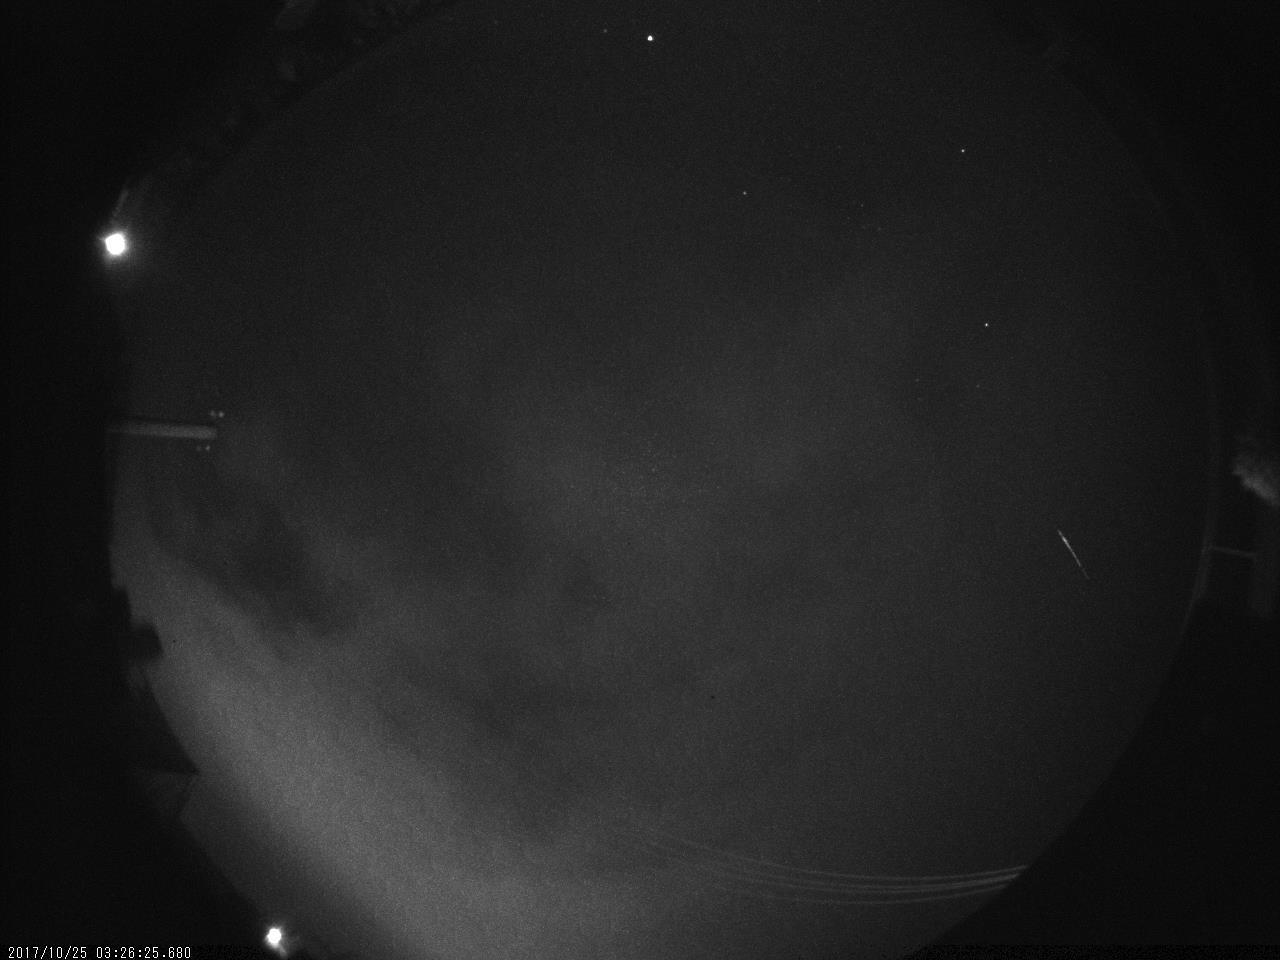Meteor: (1049, 521, 1097, 592)
